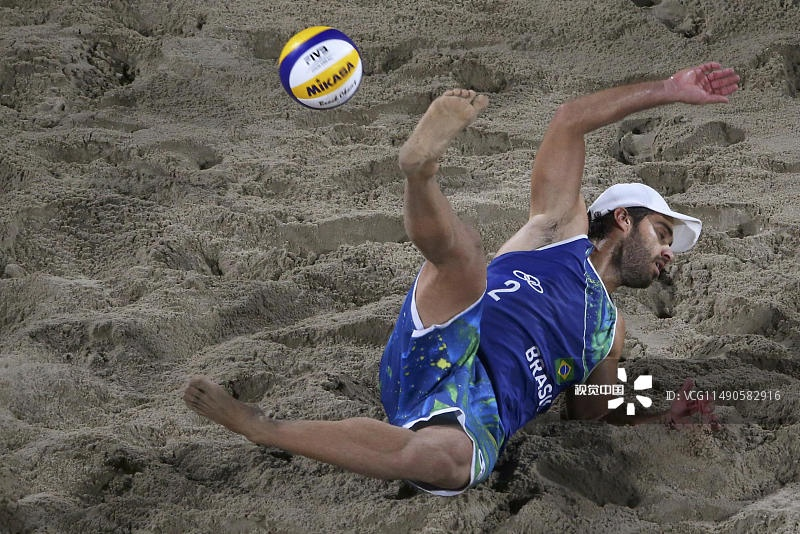falling: (166, 59, 724, 486)
